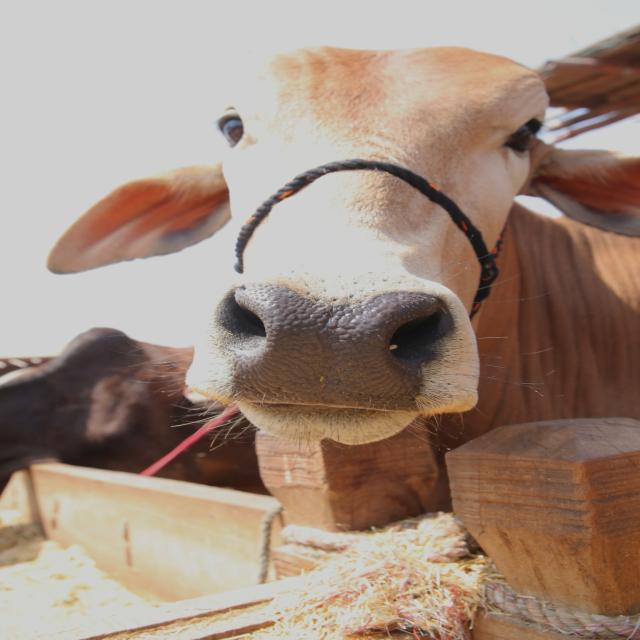muzzles: (204, 277, 457, 417)
